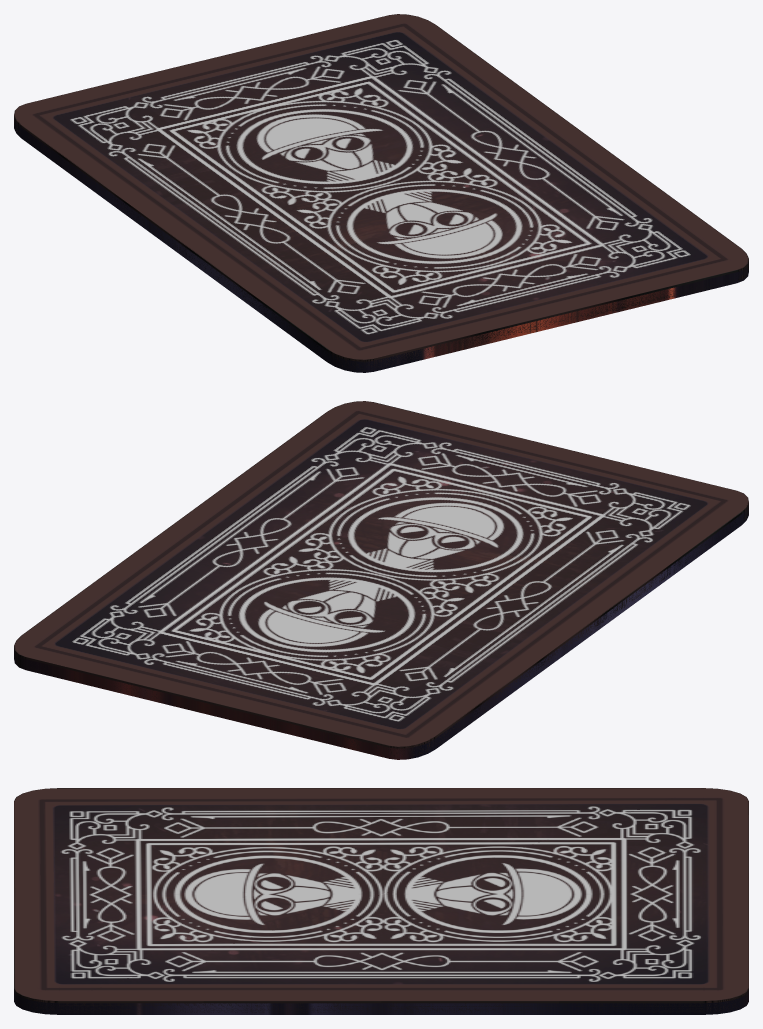
Rendered from lovers_tarot.glb.
3 views of the same model, one above another, from view 1: azimuth 30°, elevation 25°; view 2: azimuth 150°, elevation 25°; view 3: azimuth 270°, elevation 25° (orthographic). The views are drawn at different scales.
Visible parts, largest first — view 1: Plane.002, Plane.001; view 2: Plane.002, Plane.001; view 3: Plane.002, Plane.001.
Part boxes in pixels (x1=…): Plane.002: x1=14, y1=14, x2=748, y2=370; Plane.001: x1=14, y1=118, x2=748, y2=372; Plane.002: x1=14, y1=401, x2=748, y2=756; Plane.001: x1=14, y1=505, x2=748, y2=759; Plane.002: x1=14, y1=788, x2=748, y2=1012; Plane.001: x1=14, y1=990, x2=748, y2=1014.
Bounding box in the file's own units: 2.28 × 0.0684 × 3.32.
2 materials, 2 textured.
